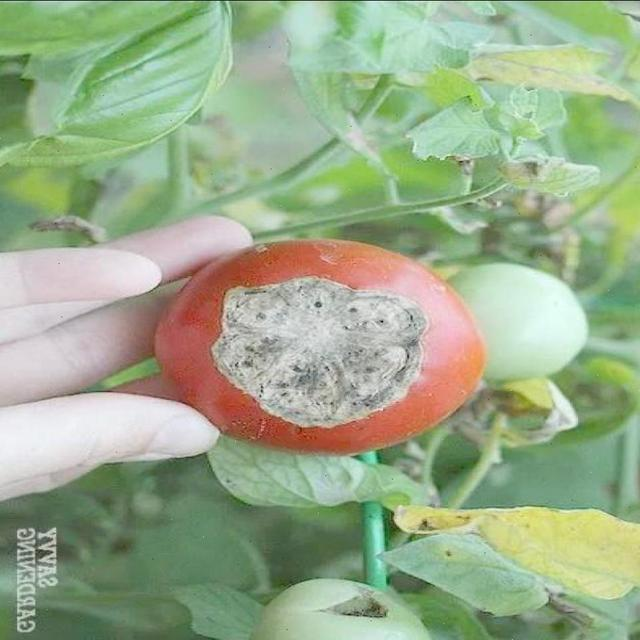Blossom End Rot Fruit: (58, 25, 237, 405)
